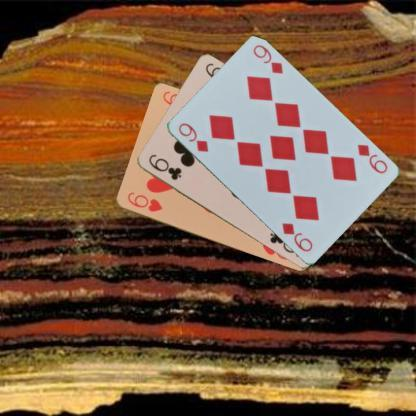6c: (146, 151, 182, 182)
6h: (124, 190, 164, 214)
9d: (354, 141, 389, 176), (175, 120, 210, 154)
